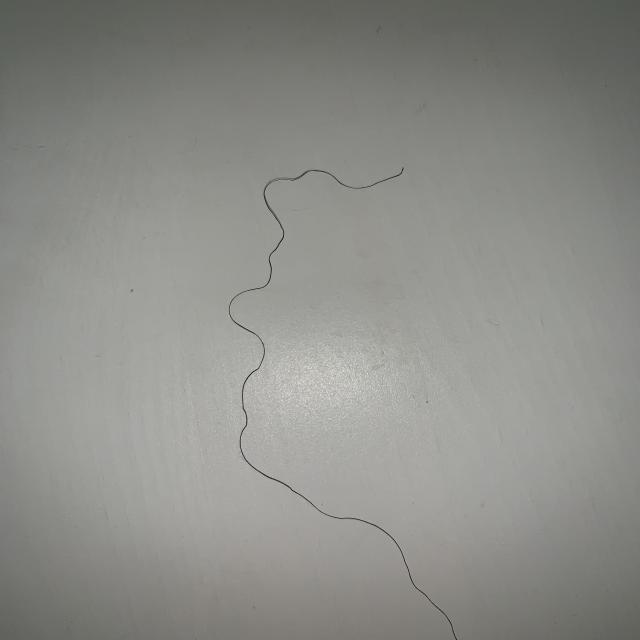hair: (225, 164, 492, 636)
